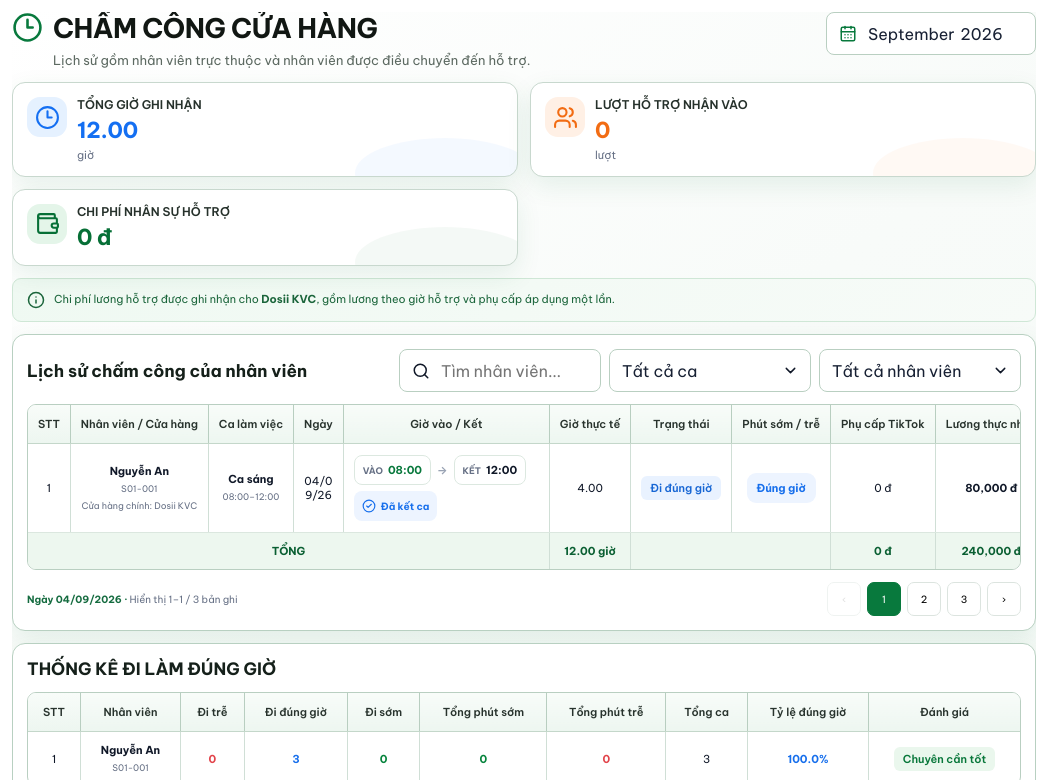
Scenario: store order, attendance, and payroll summaries › shows current-day attendance first and opens older attendance dates through numbered pages
The image size is (1048, 780).
expect the text "04/09/26" is shown: met, box [294,444,343,532]
expect the text "03/09/26" is not shown: met
Click the button named "Trang 2" at (924, 599), box [907,582,941,616]
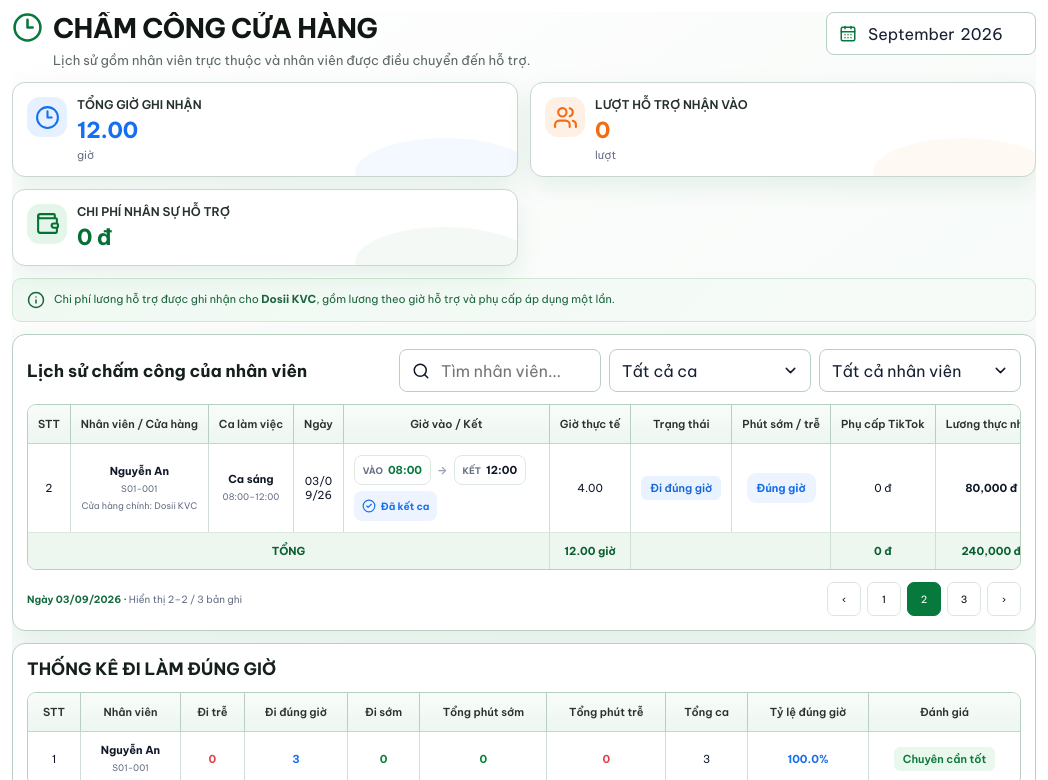
expect the text "03/09/26" is shown: met, box [294,444,343,532]
Click the button named "Trang 3" at (964, 599), box [947,582,981,616]
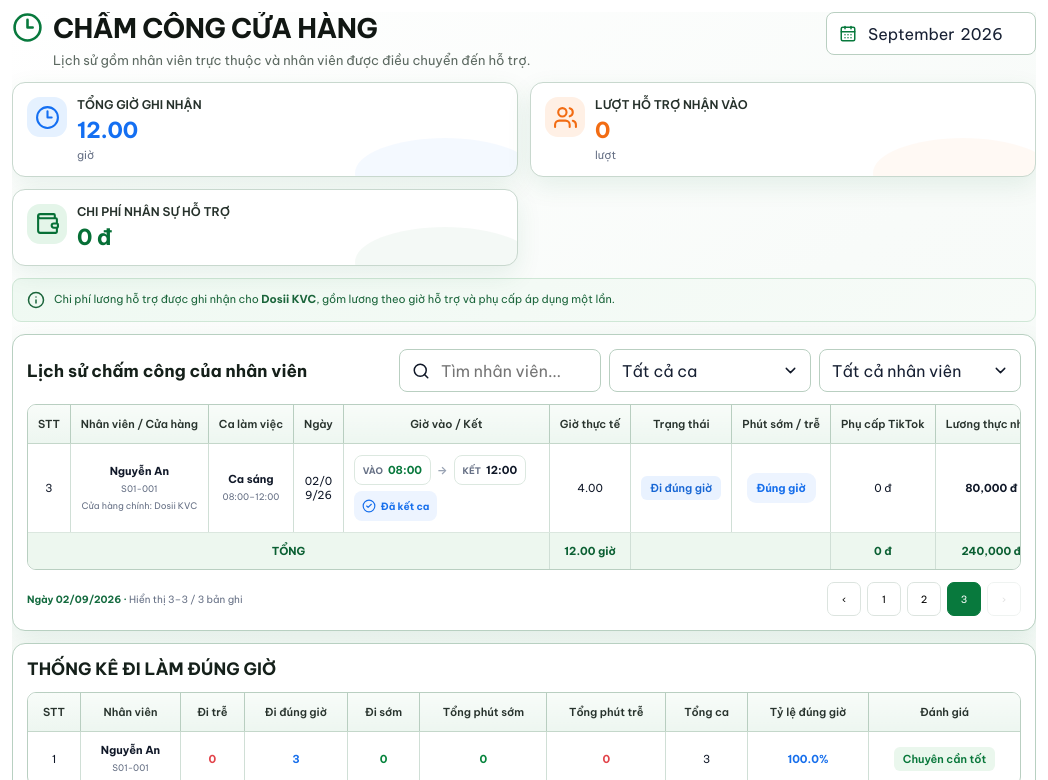
expect the text "02/09/26" is shown: met, box [294,444,343,532]
